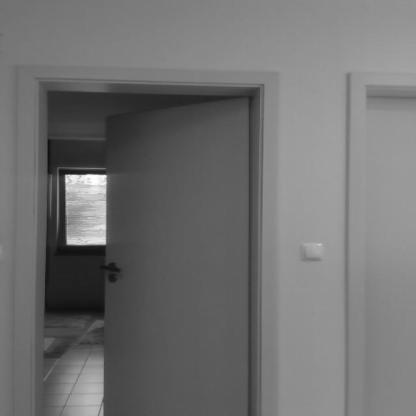door: (8, 59, 287, 415)
